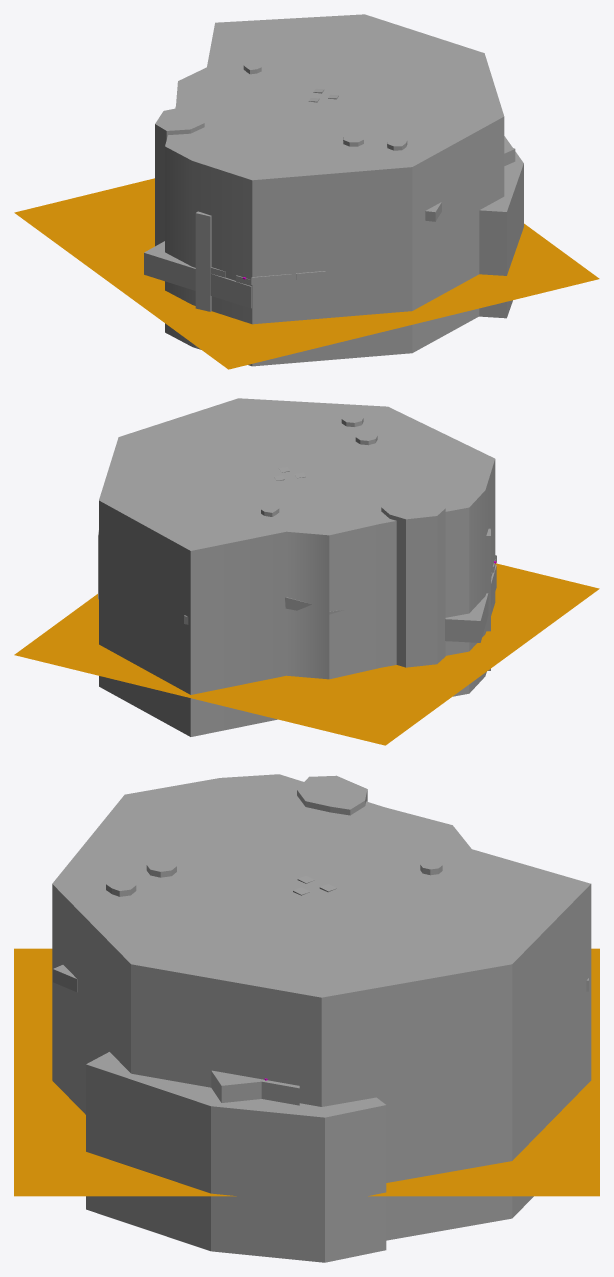
Rendered from env_level4_finalBossV4.fbx.
3 renders of one model, top to bottom at view 1: azimuth 30°, elevation 25°; view 2: azimuth 150°, elevation 25°; view 3: azimuth 270°, elevation 25°, orthographic. The views are drawn at different scales.
Parts seen in each view (by area): view 1: pCylinder4, pPlane1, pCube24, pCube15, pCylinder3, pCube5; view 2: pCylinder4, pPlane1, pCylinder3, pCube15, pCube5; view 3: pCylinder4, pCube24, pPlane1, pCylinder3, pCube27.
Part boxes in pixels (<box>): pCylinder4: <box>165,14,504,366</box>; pPlane1: <box>14,178,599,369</box>; pCube24: <box>479,136,523,318</box>; pCube15: <box>144,241,251,308</box>; pCylinder3: <box>155,107,204,246</box>; pCube5: <box>195,211,211,348</box>; pCylinder4: <box>99,398,495,736</box>; pPlane1: <box>14,563,599,745</box>; pCylinder3: <box>381,498,445,667</box>; pCube15: <box>445,565,496,642</box>; pCube5: <box>486,528,490,670</box>; pCylinder4: <box>52,774,591,1240</box>; pCube24: <box>86,1052,386,1262</box>; pPlane1: <box>14,948,599,1196</box>; pCylinder3: <box>297,775,367,815</box>; pCube27: <box>211,1070,299,1105</box>.
Bounding box in the file's own units: 22777 × 10914 × 22000.
